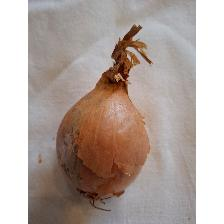Zwiebel: (55, 24, 157, 212)
